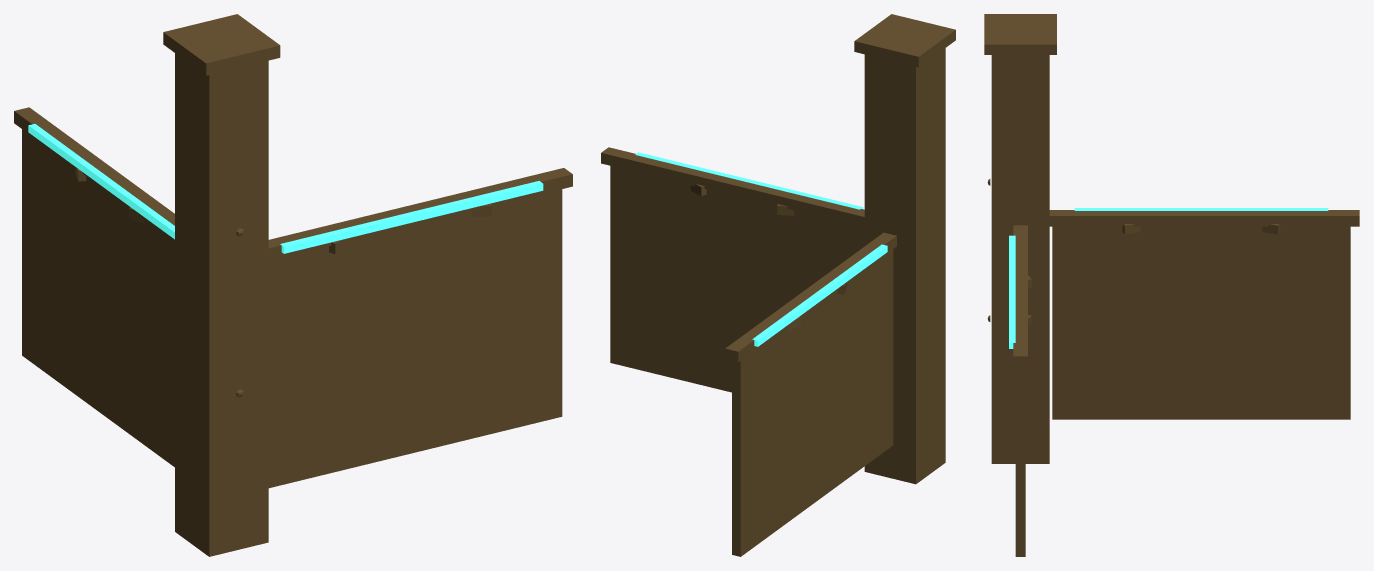
The model's file is SM_Fence_DvergrBrass_08_Corner.glb.
The picture shows the model from 3 angles, left to right: view 1: azimuth 30°, elevation 25°; view 2: azimuth 150°, elevation 25°; view 3: azimuth 270°, elevation 25°; orthographic projection. The views are drawn at different scales.
Visible parts, largest first — view 1: SM_Fence_DvergrBrass_08_Corner_PanelX, SM_Fence_DvergrBrass_08_Corner_Post, SM_Fence_DvergrBrass_08_Corner_PanelY, SM_Fence_DvergrBrass_08_Corner_Post_Cap, SM_Fence_DvergrBrass_08_Corner_RailTopX, SM_Fence_DvergrBrass_08_Corner_GlowX, SM_Fence_DvergrBrass_08_Corner_RailTopY, SM_Fence_DvergrBrass_08_Corner_GlowY; view 2: SM_Fence_DvergrBrass_08_Corner_PanelX, SM_Fence_DvergrBrass_08_Corner_PanelY, SM_Fence_DvergrBrass_08_Corner_Post, SM_Fence_DvergrBrass_08_Corner_RailTopX, SM_Fence_DvergrBrass_08_Corner_Post_Cap, SM_Fence_DvergrBrass_08_Corner_RailTopY, SM_Fence_DvergrBrass_08_Corner_GlowY, SM_Fence_DvergrBrass_08_Corner_GlowX; view 3: SM_Fence_DvergrBrass_08_Corner_PanelY, SM_Fence_DvergrBrass_08_Corner_Post, SM_Fence_DvergrBrass_08_Corner_RailTopY, SM_Fence_DvergrBrass_08_Corner_Post_Cap, SM_Fence_DvergrBrass_08_Corner_PanelX, SM_Fence_DvergrBrass_08_Corner_RailTopX, SM_Fence_DvergrBrass_08_Corner_GlowX, SM_Fence_DvergrBrass_08_Corner_GlowY.
Part boxes in pixels (left/top/right/bottom): SM_Fence_DvergrBrass_08_Corner_PanelX: left=268, top=189, right=562, bottom=488; SM_Fence_DvergrBrass_08_Corner_Post: left=175, top=53, right=268, bottom=556; SM_Fence_DvergrBrass_08_Corner_PanelY: left=22, top=129, right=174, bottom=467; SM_Fence_DvergrBrass_08_Corner_Post_Cap: left=163, top=14, right=280, bottom=75; SM_Fence_DvergrBrass_08_Corner_RailTopX: left=268, top=168, right=572, bottom=260; SM_Fence_DvergrBrass_08_Corner_GlowX: left=280, top=181, right=543, bottom=253; SM_Fence_DvergrBrass_08_Corner_RailTopY: left=14, top=107, right=174, bottom=240; SM_Fence_DvergrBrass_08_Corner_GlowY: left=28, top=124, right=174, bottom=239; SM_Fence_DvergrBrass_08_Corner_PanelX: left=610, top=166, right=864, bottom=392; SM_Fence_DvergrBrass_08_Corner_PanelY: left=732, top=249, right=893, bottom=556; SM_Fence_DvergrBrass_08_Corner_Post: left=864, top=48, right=945, bottom=484; SM_Fence_DvergrBrass_08_Corner_RailTopX: left=601, top=147, right=864, bottom=227; SM_Fence_DvergrBrass_08_Corner_Post_Cap: left=854, top=14, right=955, bottom=67; SM_Fence_DvergrBrass_08_Corner_RailTopY: left=725, top=232, right=896, bottom=362; SM_Fence_DvergrBrass_08_Corner_GlowY: left=752, top=244, right=887, bottom=346; SM_Fence_DvergrBrass_08_Corner_GlowX: left=635, top=152, right=863, bottom=209; SM_Fence_DvergrBrass_08_Corner_PanelY: left=1052, top=226, right=1350, bottom=419; SM_Fence_DvergrBrass_08_Corner_Post: left=991, top=55, right=1049, bottom=463; SM_Fence_DvergrBrass_08_Corner_RailTopY: left=1049, top=210, right=1359, bottom=226; SM_Fence_DvergrBrass_08_Corner_Post_Cap: left=984, top=14, right=1056, bottom=54; SM_Fence_DvergrBrass_08_Corner_PanelX: left=1015, top=366, right=1025, bottom=556; SM_Fence_DvergrBrass_08_Corner_RailTopX: left=1013, top=225, right=1027, bottom=366; SM_Fence_DvergrBrass_08_Corner_GlowX: left=1009, top=235, right=1015, bottom=348; SM_Fence_DvergrBrass_08_Corner_GlowY: left=1074, top=208, right=1328, bottom=210.
Size of the model in its own units: 1.14 by 1.41 by 1.14.
